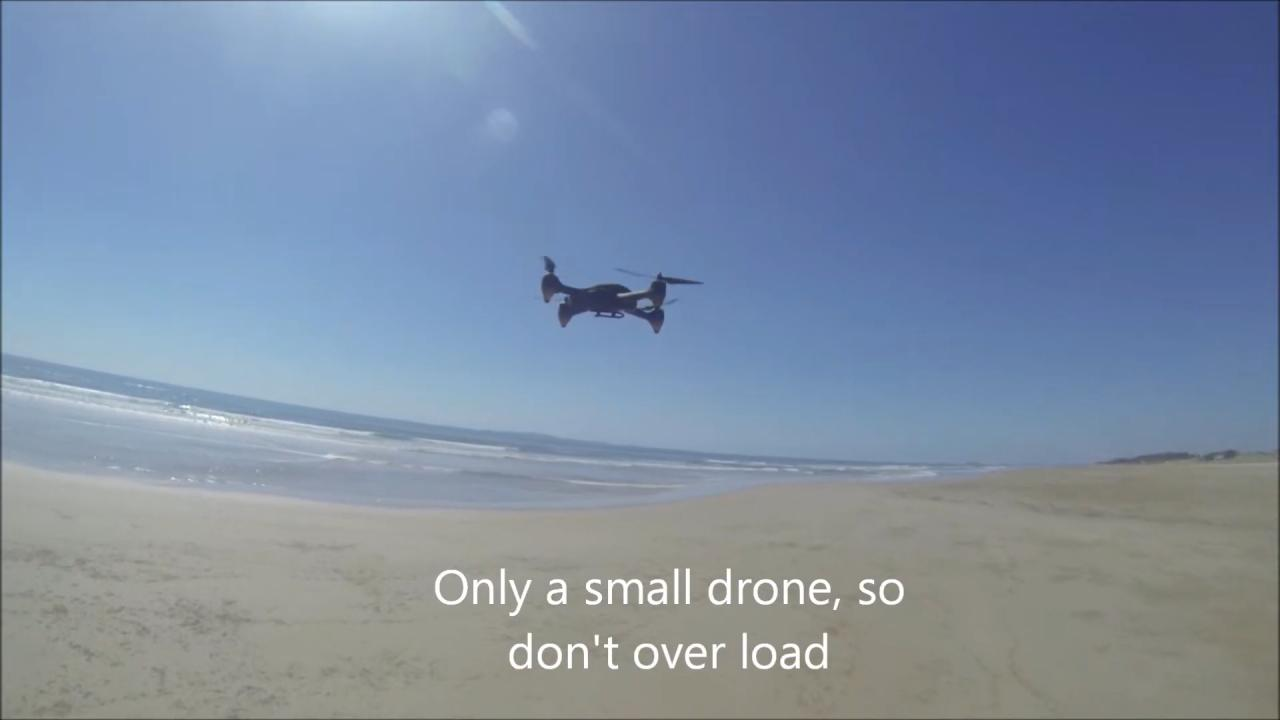Drone: (526, 246, 709, 346)
